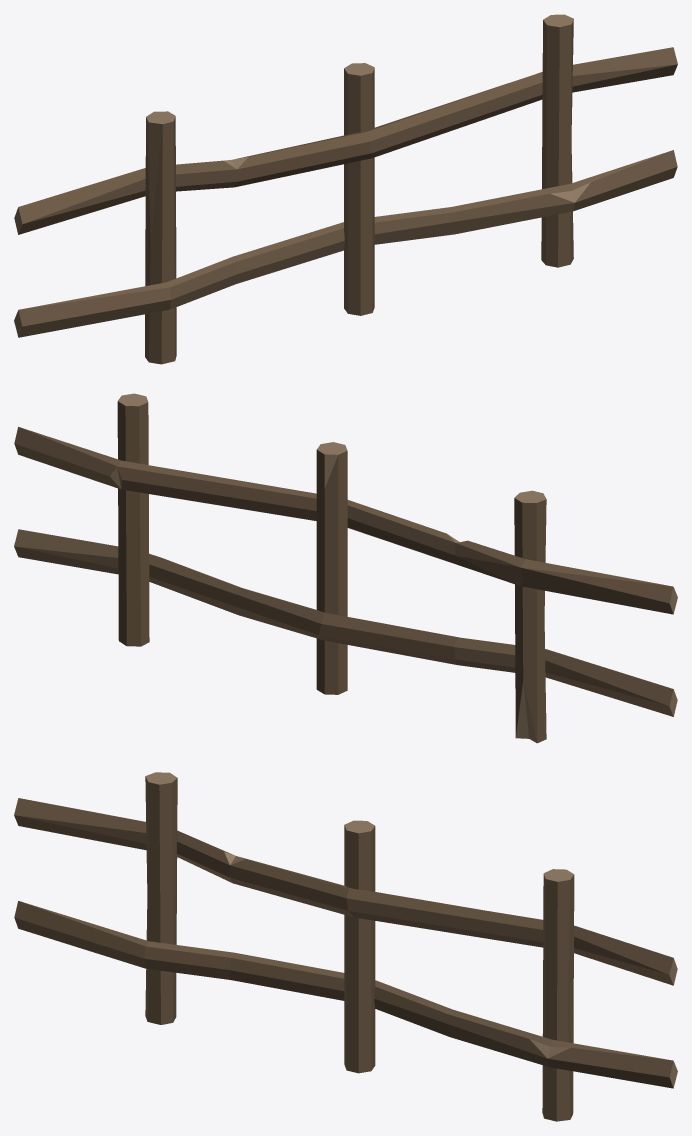
Rendered from 04_LP_Fence_D.fbx.
3 renders of one model, top to bottom at view 1: azimuth 30°, elevation 25°; view 2: azimuth 150°, elevation 25°; view 3: azimuth 330°, elevation 25°, orthographic.
Parts seen in each view (by area): view 1: Fence_D; view 2: Fence_D; view 3: Fence_D.
Part boxes in pixels (x1,y1,x2,y2): Fence_D: [14, 14, 677, 364]; Fence_D: [14, 393, 677, 743]; Fence_D: [14, 772, 677, 1121].
Size of the model in its own units: 200 by 70 by 14.21.
